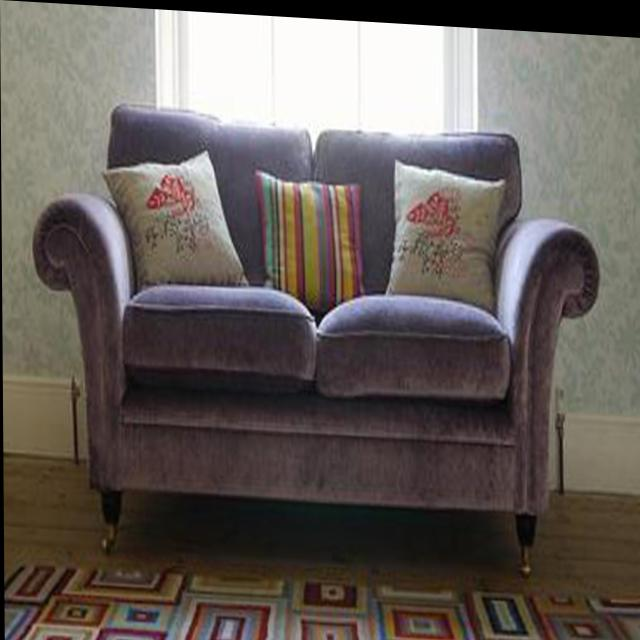Sofa: (28, 97, 600, 568)
